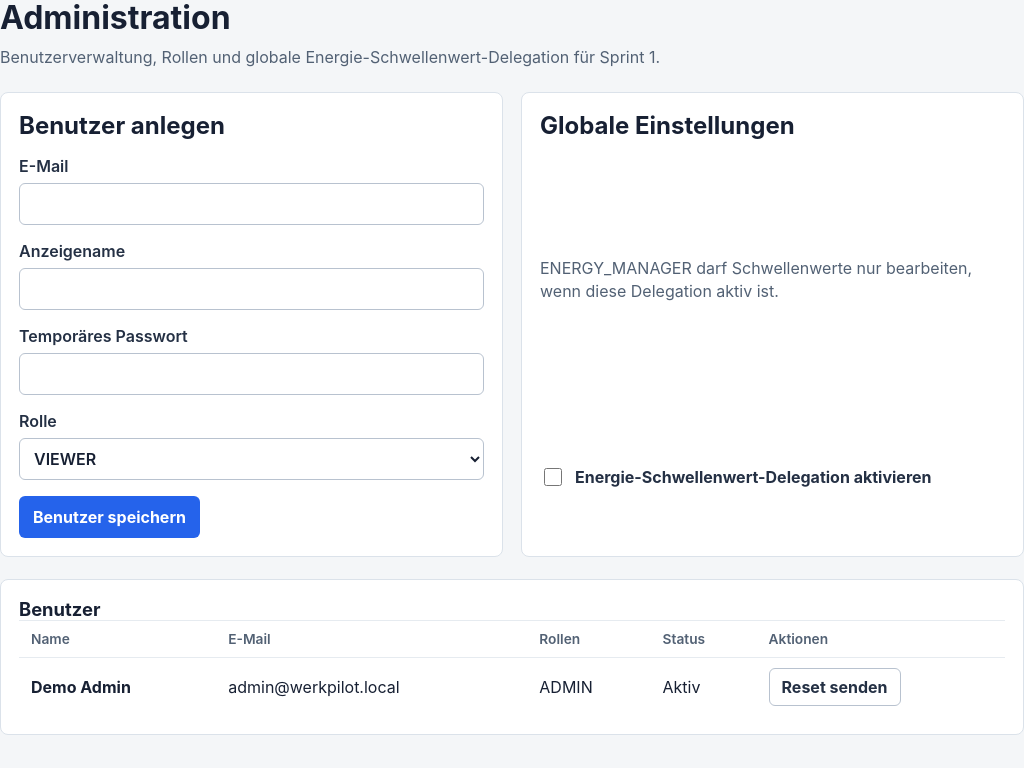
it: Sprint 1 admin UI › validates the create-user form
Click the button "Benutzer speichern".
click(110, 517)  # box [19,496,200,538]
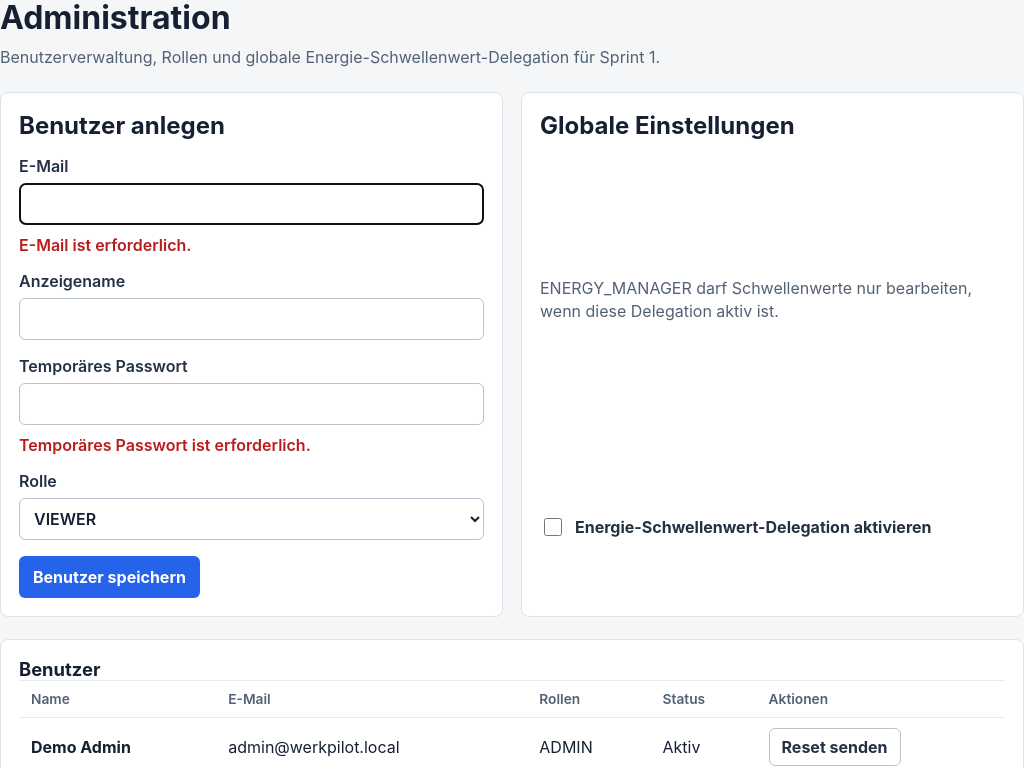
Expected: the text "E-Mail ist erforderlich." is shown, [19,235,192,255]
